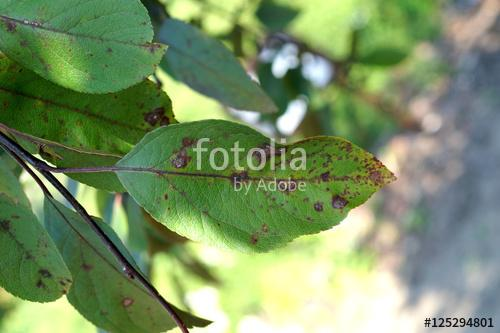Apple Scab Leaf: (124, 102, 398, 255), (1, 3, 169, 91), (1, 193, 76, 316)
